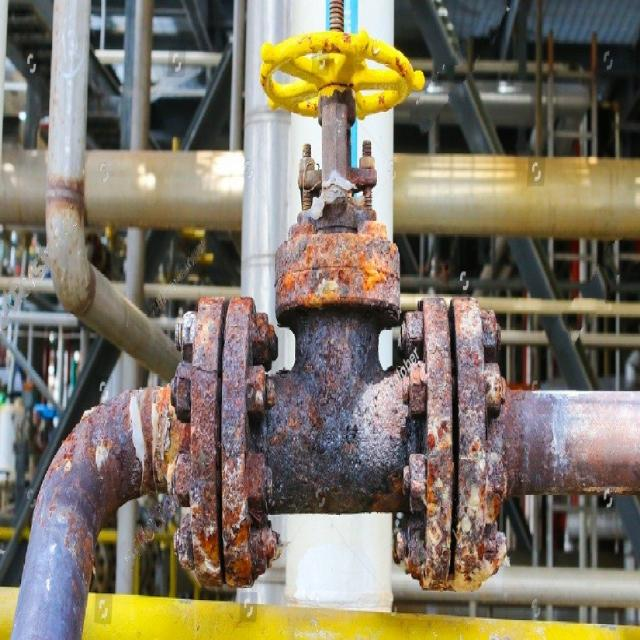Wheel Handle Valve Threaded: (221, 31, 438, 171)
